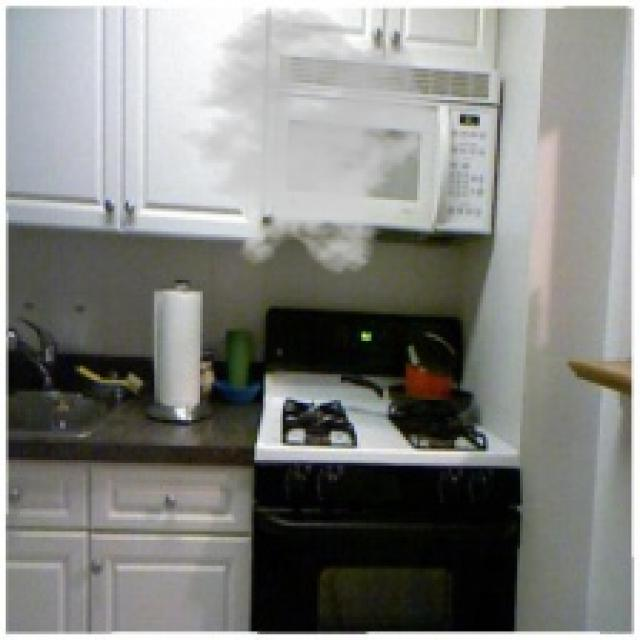smoke: (163, 6, 443, 277)
